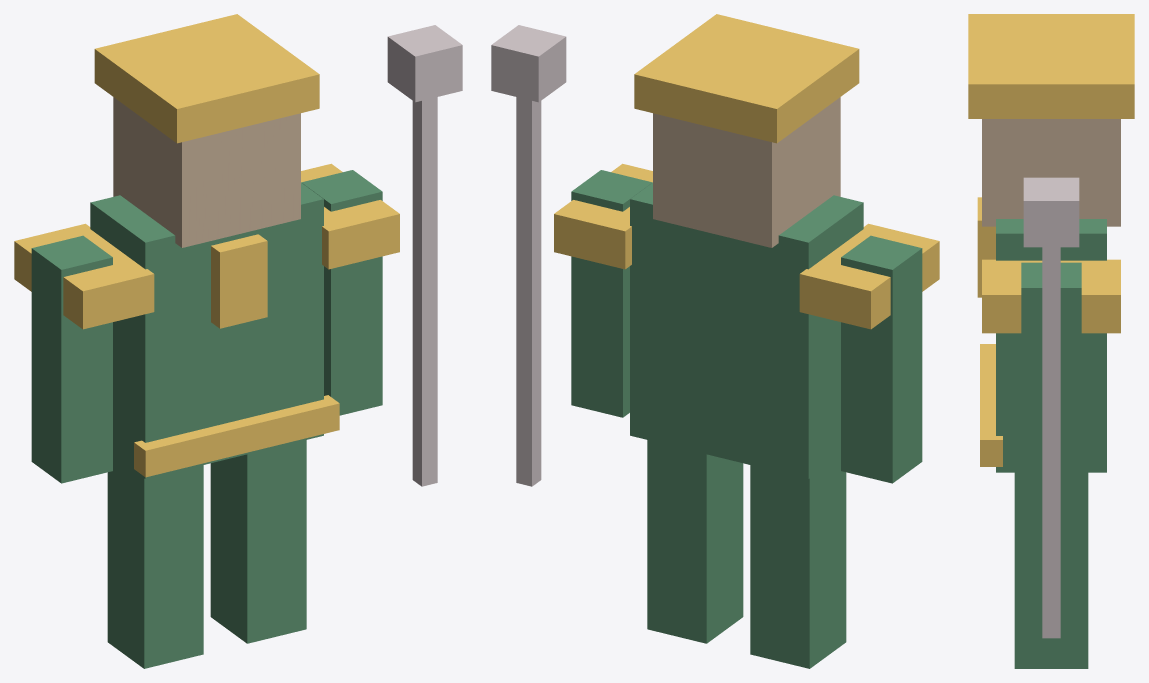
Rendered from 02_juno_chromabell_scout_under.glb.
3 views of the same model, side by side, from view 1: azimuth 30°, elevation 25°; view 2: azimuth 150°, elevation 25°; view 3: azimuth 270°, elevation 25° (orthographic).
Visible parts, largest first — view 1: Juno Chromabell, Scout under; view 2: Juno Chromabell, Scout under; view 3: Juno Chromabell, Scout under.
Part boxes in pixels (box(x1,y1,x2,y2)): Juno Chromabell, Scout under: box(14, 14, 462, 668); Juno Chromabell, Scout under: box(491, 14, 939, 668); Juno Chromabell, Scout under: box(968, 14, 1134, 668).
Bounding box in the file's own units: 1.04 × 1.42 × 0.37.
